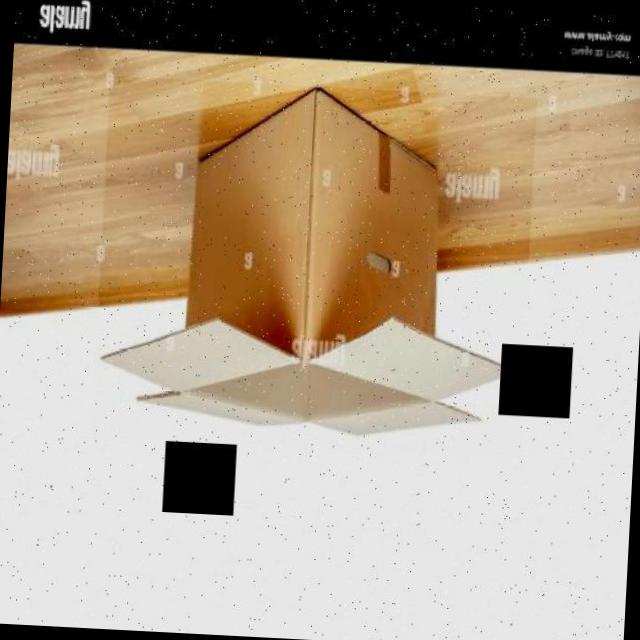box: (91, 76, 537, 460)
